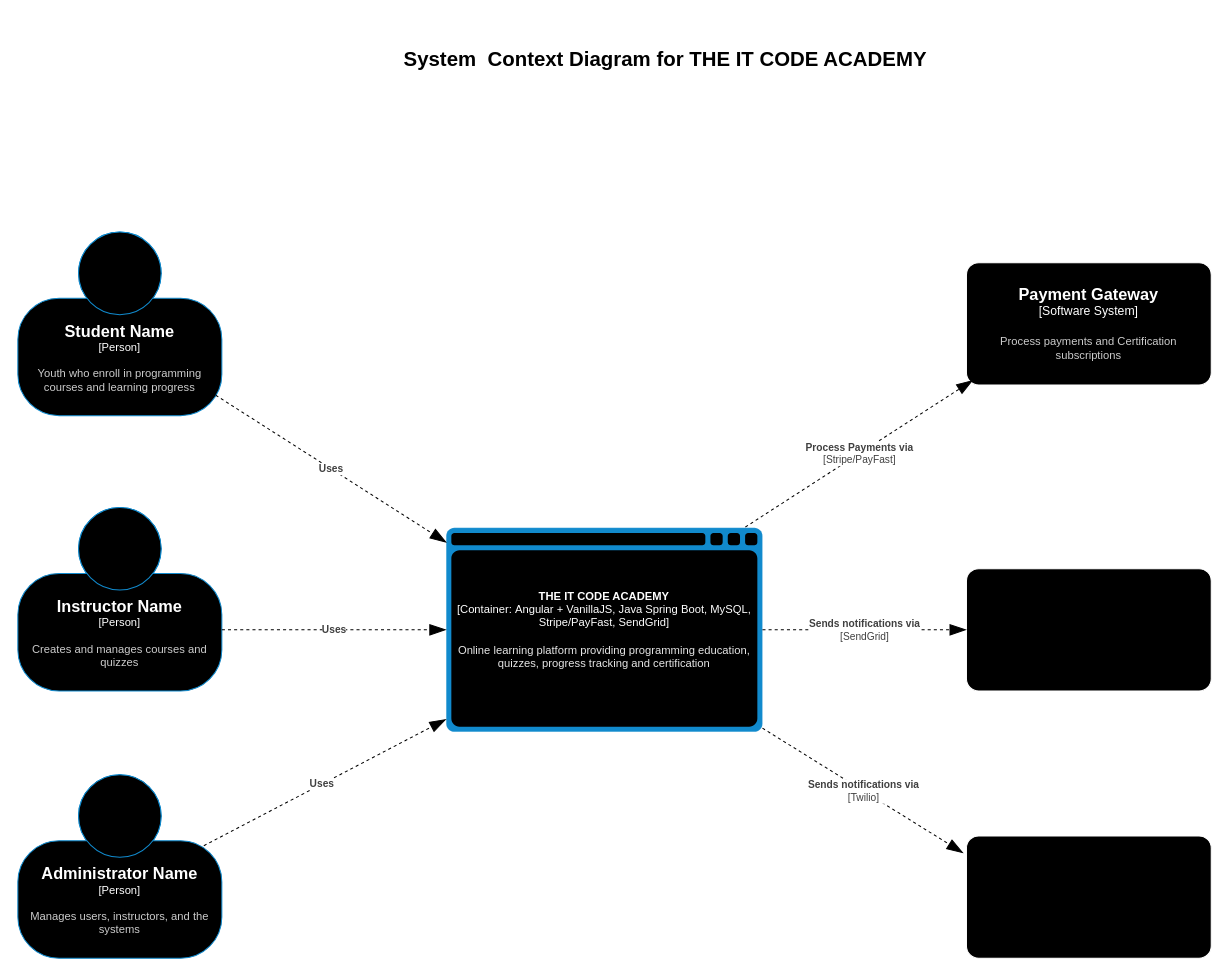
This 1229x976 diagram has some shape labels left out. Each missing label, with the centre of its shape:
Email Service [Software System] Sends learning notifications and announcements: point 1088,629
SMS Service [Software System] Sends learning notifications alerts and reminders: point 1088,896
